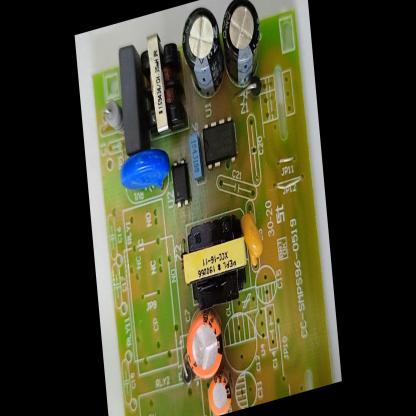Cap1: (181, 304, 229, 387)
Cap2: (203, 368, 239, 416)
Cap3: (178, 0, 228, 107)
Cap4: (217, 0, 267, 98)
MOSFET: (200, 110, 239, 175)
Mov: (116, 140, 173, 201)
Resistor: (100, 94, 126, 142)
Transformer: (178, 209, 250, 314), (137, 23, 189, 143)
